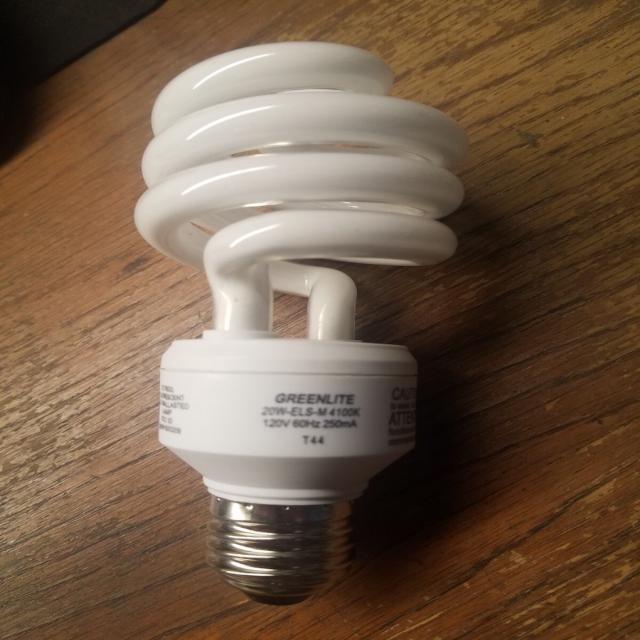bulb: (70, 0, 592, 595)
